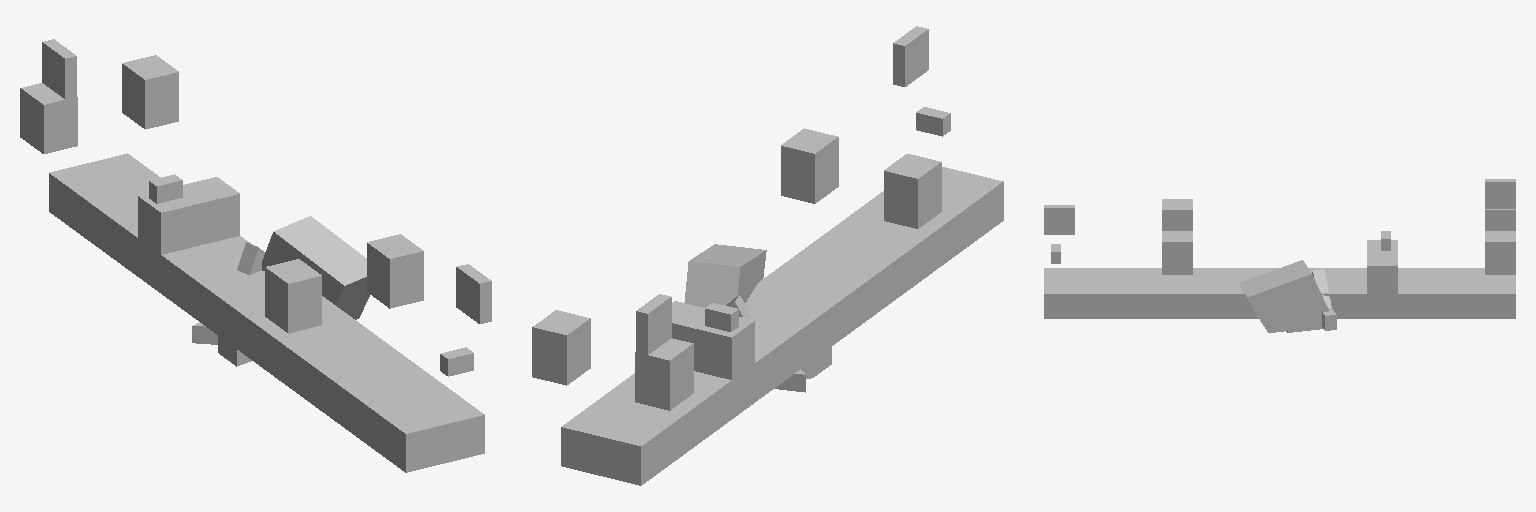
robot.urdf — g2:
<?xml version="1.0" encoding="utf-8"?>
<robot name="g2">
  <link name="gripper_base">
    <visual name="Visual">
      <geometry>
        <mesh filename="package://g2/meshes/visual/L0_visual_0.stl" scale="0.001 0.001 0.001"/>
      </geometry>
      <material name="Material">
        <color rgba="0.8 0.8 0.8 1.0"/>
      </material>
    </visual>
    <visual name="Visual">
      <geometry>
        <mesh filename="package://g2/meshes/visual/L0_visual_1.stl" scale="0.001 0.001 0.001"/>
      </geometry>
      <material name="Material">
        <color rgba="0.8 0.8 0.8 1.0"/>
      </material>
    </visual>
    <visual name="Visual">
      <geometry>
        <mesh filename="package://g2/meshes/visual/L0_visual_2.stl" scale="0.001 0.001 0.001"/>
      </geometry>
      <material name="Material">
        <color rgba="0.8 0.8 0.8 1.0"/>
      </material>
    </visual>
    <visual name="Visual">
      <geometry>
        <mesh filename="package://g2/meshes/visual/L0_visual_3.stl" scale="0.001 0.001 0.001"/>
      </geometry>
      <material name="Material">
        <color rgba="0.8 0.8 0.8 1.0"/>
      </material>
    </visual>
    <visual name="Visual">
      <geometry>
        <mesh filename="package://g2/meshes/visual/L0_visual_4.stl" scale="0.001 0.001 0.001"/>
      </geometry>
      <material name="Material">
        <color rgba="0.8 0.8 0.8 1.0"/>
      </material>
    </visual>
    <visual name="Visual">
      <geometry>
        <mesh filename="package://g2/meshes/visual/L0_visual_5.stl" scale="0.001 0.001 0.001"/>
      </geometry>
      <material name="Material">
        <color rgba="0.8 0.8 0.8 1.0"/>
      </material>
    </visual>
    <visual name="Visual">
      <geometry>
        <mesh filename="package://g2/meshes/visual/L0_visual_6.stl" scale="0.001 0.001 0.001"/>
      </geometry>
      <material name="Material">
        <color rgba="0.8 0.8 0.8 1.0"/>
      </material>
    </visual>
    <visual name="Visual">
      <geometry>
        <mesh filename="package://g2/meshes/visual/L0_visual_7.stl" scale="0.001 0.001 0.001"/>
      </geometry>
      <material name="Material">
        <color rgba="0.8 0.8 0.8 1.0"/>
      </material>
    </visual>
    <visual name="Visual">
      <geometry>
        <mesh filename="package://g2/meshes/visual/L0_visual_8.stl" scale="0.001 0.001 0.001"/>
      </geometry>
      <material name="Material">
        <color rgba="0.8 0.8 0.8 1.0"/>
      </material>
    </visual>
    <visual name="Visual">
      <geometry>
        <mesh filename="package://g2/meshes/visual/L0_visual_9.stl" scale="0.001 0.001 0.001"/>
      </geometry>
      <material name="Material">
        <color rgba="0.8 0.8 0.8 1.0"/>
      </material>
    </visual>
    <visual name="Visual">
      <geometry>
        <mesh filename="package://g2/meshes/visual/L0_visual_10.stl" scale="0.001 0.001 0.001"/>
      </geometry>
      <material name="Material">
        <color rgba="0.8 0.8 0.8 1.0"/>
      </material>
    </visual>
    <collision name="Collision">
      <geometry>
        <mesh filename="package://g2/meshes/collision/L0_collision_0.stl" scale="0.001 0.001 0.001"/>
      </geometry>
    </collision>
    <collision name="Collision">
      <geometry>
        <mesh filename="package://g2/meshes/collision/L0_collision_1.stl" scale="0.001 0.001 0.001"/>
      </geometry>
    </collision>
    <collision name="Collision">
      <geometry>
        <mesh filename="package://g2/meshes/collision/L0_collision_2.stl" scale="0.001 0.001 0.001"/>
      </geometry>
    </collision>
    <collision name="Collision">
      <geometry>
        <mesh filename="package://g2/meshes/collision/L0_collision_3.stl" scale="0.001 0.001 0.001"/>
      </geometry>
    </collision>
    <collision name="Collision">
      <geometry>
        <mesh filename="package://g2/meshes/collision/L0_collision_4.stl" scale="0.001 0.001 0.001"/>
      </geometry>
    </collision>
    <collision name="Collision">
      <geometry>
        <mesh filename="package://g2/meshes/collision/L0_collision_5.stl" scale="0.001 0.001 0.001"/>
      </geometry>
    </collision>
    <collision name="Collision">
      <geometry>
        <mesh filename="package://g2/meshes/collision/L0_collision_6.stl" scale="0.001 0.001 0.001"/>
      </geometry>
    </collision>
    <collision name="Collision">
      <geometry>
        <mesh filename="package://g2/meshes/collision/L0_collision_7.stl" scale="0.001 0.001 0.001"/>
      </geometry>
    </collision>
    <collision name="Collision">
      <geometry>
        <mesh filename="package://g2/meshes/collision/L0_collision_8.stl" scale="0.001 0.001 0.001"/>
      </geometry>
    </collision>
    <collision name="Collision">
      <geometry>
        <mesh filename="package://g2/meshes/collision/L0_collision_9.stl" scale="0.001 0.001 0.001"/>
      </geometry>
    </collision>
    <collision name="Collision">
      <geometry>
        <mesh filename="package://g2/meshes/collision/L0_collision_10.stl" scale="0.001 0.001 0.001"/>
      </geometry>
    </collision>
  </link>
  <link name="gripper_jaw_l">
    <visual name="Visual">
      <geometry>
        <mesh filename="package://g2/meshes/visual/L1_visual_0.stl" scale="0.001 0.001 0.001"/>
      </geometry>
      <material name="Material">
        <color rgba="0.8 0.8 0.8 1.0"/>
      </material>
    </visual>
    <visual name="Visual">
      <geometry>
        <mesh filename="package://g2/meshes/visual/L1_visual_1.stl" scale="0.001 0.001 0.001"/>
      </geometry>
      <material name="Material">
        <color rgba="0.8 0.8 0.8 1.0"/>
      </material>
    </visual>
    <visual name="Visual">
      <geometry>
        <mesh filename="package://g2/meshes/visual/L1_visual_2.stl" scale="0.001 0.001 0.001"/>
      </geometry>
      <material name="Material">
        <color rgba="0.8 0.8 0.8 1.0"/>
      </material>
    </visual>
    <visual name="Visual">
      <geometry>
        <mesh filename="package://g2/meshes/visual/L1_visual_3.stl" scale="0.001 0.001 0.001"/>
      </geometry>
      <material name="Material">
        <color rgba="0.8 0.8 0.8 1.0"/>
      </material>
    </visual>
    <visual name="Visual">
      <geometry>
        <mesh filename="package://g2/meshes/visual/L1_visual_4.stl" scale="0.001 0.001 0.001"/>
      </geometry>
      <material name="Material">
        <color rgba="0.8 0.8 0.8 1.0"/>
      </material>
    </visual>
    <visual name="Visual">
      <geometry>
        <mesh filename="package://g2/meshes/visual/L1_visual_5.stl" scale="0.001 0.001 0.001"/>
      </geometry>
      <material name="Material">
        <color rgba="0.8 0.8 0.8 1.0"/>
      </material>
    </visual>
    <collision name="Collision">
      <geometry>
        <mesh filename="package://g2/meshes/collision/L1_collision_0.stl" scale="0.001 0.001 0.001"/>
      </geometry>
    </collision>
    <collision name="Collision">
      <geometry>
        <mesh filename="package://g2/meshes/collision/L1_collision_1.stl" scale="0.001 0.001 0.001"/>
      </geometry>
    </collision>
    <collision name="Collision">
      <geometry>
        <mesh filename="package://g2/meshes/collision/L1_collision_2.stl" scale="0.001 0.001 0.001"/>
      </geometry>
    </collision>
    <collision name="Collision">
      <geometry>
        <mesh filename="package://g2/meshes/collision/L1_collision_3.stl" scale="0.001 0.001 0.001"/>
      </geometry>
    </collision>
    <collision name="Collision">
      <geometry>
        <mesh filename="package://g2/meshes/collision/L1_collision_4.stl" scale="0.001 0.001 0.001"/>
      </geometry>
    </collision>
    <collision name="Collision">
      <geometry>
        <mesh filename="package://g2/meshes/collision/L1_collision_5.stl" scale="0.001 0.001 0.001"/>
      </geometry>
    </collision>
  </link>
  <link name="gripper_jaw_r">
    <visual name="Visual">
      <geometry>
        <mesh filename="package://g2/meshes/visual/L2_visual_0.stl" scale="0.001 0.001 0.001"/>
      </geometry>
      <material name="Material">
        <color rgba="0.8 0.8 0.8 1.0"/>
      </material>
    </visual>
    <visual name="Visual">
      <geometry>
        <mesh filename="package://g2/meshes/visual/L2_visual_1.stl" scale="0.001 0.001 0.001"/>
      </geometry>
      <material name="Material">
        <color rgba="0.8 0.8 0.8 1.0"/>
      </material>
    </visual>
    <visual name="Visual">
      <geometry>
        <mesh filename="package://g2/meshes/visual/L2_visual_2.stl" scale="0.001 0.001 0.001"/>
      </geometry>
      <material name="Material">
        <color rgba="0.8 0.8 0.8 1.0"/>
      </material>
    </visual>
    <visual name="Visual">
      <geometry>
        <mesh filename="package://g2/meshes/visual/L2_visual_3.stl" scale="0.001 0.001 0.001"/>
      </geometry>
      <material name="Material">
        <color rgba="0.8 0.8 0.8 1.0"/>
      </material>
    </visual>
    <visual name="Visual">
      <geometry>
        <mesh filename="package://g2/meshes/visual/L2_visual_4.stl" scale="0.001 0.001 0.001"/>
      </geometry>
      <material name="Material">
        <color rgba="0.8 0.8 0.8 1.0"/>
      </material>
    </visual>
    <visual name="Visual">
      <geometry>
        <mesh filename="package://g2/meshes/visual/L2_visual_5.stl" scale="0.001 0.001 0.001"/>
      </geometry>
      <material name="Material">
        <color rgba="0.8 0.8 0.8 1.0"/>
      </material>
    </visual>
    <collision name="Collision">
      <geometry>
        <mesh filename="package://g2/meshes/collision/L2_collision_0.stl" scale="0.001 0.001 0.001"/>
      </geometry>
    </collision>
    <collision name="Collision">
      <geometry>
        <mesh filename="package://g2/meshes/collision/L2_collision_1.stl" scale="0.001 0.001 0.001"/>
      </geometry>
    </collision>
    <collision name="Collision">
      <geometry>
        <mesh filename="package://g2/meshes/collision/L2_collision_2.stl" scale="0.001 0.001 0.001"/>
      </geometry>
    </collision>
    <collision name="Collision">
      <geometry>
        <mesh filename="package://g2/meshes/collision/L2_collision_3.stl" scale="0.001 0.001 0.001"/>
      </geometry>
    </collision>
    <collision name="Collision">
      <geometry>
        <mesh filename="package://g2/meshes/collision/L2_collision_4.stl" scale="0.001 0.001 0.001"/>
      </geometry>
    </collision>
    <collision name="Collision">
      <geometry>
        <mesh filename="package://g2/meshes/collision/L2_collision_5.stl" scale="0.001 0.001 0.001"/>
      </geometry>
    </collision>
  </link>
  <joint name="joint_gripper_jaw_l" type="prismatic">
    <parent link="gripper_base"/>
    <child link="gripper_jaw_l"/>
    <axis xyz="1.0 0.0 0.0"/>
    <limit effort="0.0" lower="0.0008" upper="0.01" velocity="0.0"/>
    <origin rpy="0.0 -0.0 0.0" xyz="0.0 0.0 0.0"/>
  </joint>
  <joint name="joint_gripper_jaw_r" type="prismatic">
    <parent link="gripper_base"/>
    <child link="gripper_jaw_r"/>
    <axis xyz="-1.0 0.0 0.0"/>
    <limit effort="0.0" lower="0.0008" upper="0.01" velocity="0.0"/>
    <origin rpy="0.0 -0.0 0.0" xyz="0.0 0.0 0.0"/>
  </joint>
</robot>

--- Render facts (derived) ---
3 views of the same robot in one strip: view 1: azimuth 30°, elevation 25°; view 2: azimuth 150°, elevation 25°; view 3: azimuth 270°, elevation 25° (orthographic).
Model g2 with 3 links and 2 joints (2 prismatic), rooted at gripper_base, posed all joints at 0 but 2 set to mid-range because 0 is outside their limits (joint_gripper_jaw_l = 0.0054, joint_gripper_jaw_r = 0.0054).
Visible links, largest first — view 1: gripper_base, gripper_jaw_r, gripper_jaw_l; view 2: gripper_base, gripper_jaw_l, gripper_jaw_r; view 3: gripper_base, gripper_jaw_l, gripper_jaw_r.
Boxes of the visible links, bbox=[...] form: gripper_base: bbox=[49, 153, 484, 472]; gripper_jaw_r: bbox=[20, 39, 321, 333]; gripper_jaw_l: bbox=[122, 55, 491, 376]; gripper_base: bbox=[561, 167, 1003, 485]; gripper_jaw_l: bbox=[532, 26, 950, 385]; gripper_jaw_r: bbox=[635, 154, 941, 410]; gripper_base: bbox=[1044, 240, 1515, 332]; gripper_jaw_l: bbox=[1044, 205, 1515, 274]; gripper_jaw_r: bbox=[1162, 179, 1515, 330].
Bounding box of the posed robot: 0.2564 × 1 × 0.2916 m (x, y, z).
18 mesh visuals loaded from 23 distinct referenced files (18 binary STL); not drawn: 5 (reference not matched to a file when rendering).